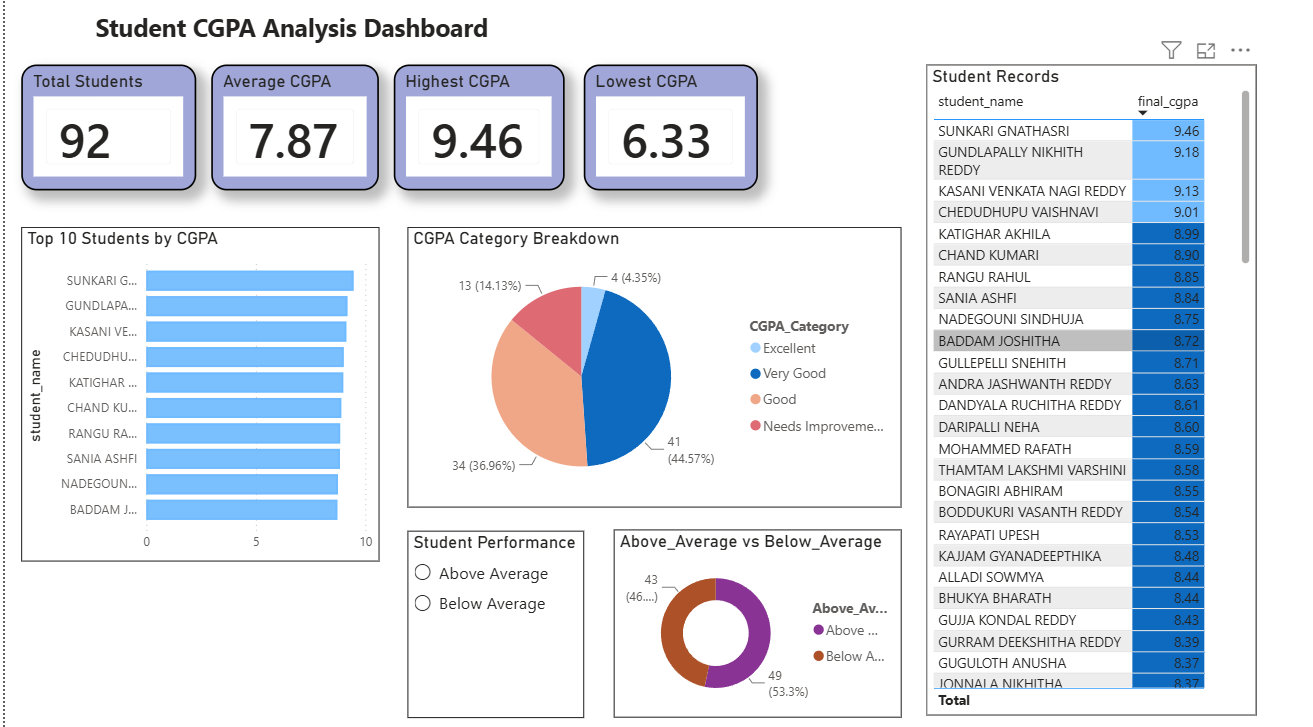

Layout of this report page (visuals, bound fields, positions):
{"tool":"powerbi","page":{"name":"Page 1","canvas":[1280,720],"ordinal":0},"visuals":[{"type":"tableEx","title":"Student Records","fields":{"Values":["AIML.Column3","AIML.final_cgpa"]},"box":[901.4,71.4,322.9,637.1],"z":0},{"type":"pieChart","title":"CGPA Category Breakdown","fields":{"Y":["AIML.total_students"],"Category":["AIML.CGPA_Category"]},"box":[394.3,230,482.9,274.3],"z":1000},{"type":"donutChart","title":"Above_Average vs Below_Average","fields":{"Y":["AIML.total_students"],"Category":["AIML.Above_Average"]},"box":[595.7,525.7,281.4,184.3],"z":2000},{"type":"listSlicer","title":"Student Performance","fields":{"Values":["AIML.Above_Average"]},"box":[394.3,527.1,172.9,182.9],"z":3000},{"type":"clusteredBarChart","title":"Top 10 Students by CGPA","fields":{"Category":["AIML.student_name"],"Y":["Sum(AIML.final_cgpa)"]},"box":[15.7,230,350,327.1],"z":4000},{"type":"cardVisual","title":"Total Students","fields":{"Data":["AIML.total_students"]},"box":[15.7,71.4,171.4,122.9],"z":5000},{"type":"cardVisual","title":"Average CGPA","fields":{"Data":["AIML.Average_CGPA"]},"box":[201.4,71.4,164.3,122.9],"z":6000},{"type":"cardVisual","title":"Highest CGPA","fields":{"Data":["AIML.highest_cgpa"]},"box":[380,71.4,167.1,122.9],"z":7000},{"type":"cardVisual","title":"Lowest CGPA","fields":{"Data":["AIML.lowest_cgpa"]},"box":[565.7,71.4,170,122.9],"z":8000},{"type":"textbox","box":[34.2,13.5,492.8,48.9],"z":9000}]}

Visuals, with their boxes in screenshot pixels (x1, y1, x2, y2), scaled from the page's 1280x720 canvas onto the 1313x727 screenshot:
"Student Records" tableEx: [925,72,1256,715]
"CGPA Category Breakdown" pieChart: [404,232,900,509]
"Above_Average vs Below_Average" donutChart: [611,531,900,717]
"Student Performance" listSlicer: [404,532,582,717]
"Top 10 Students by CGPA" clusteredBarChart: [16,232,375,563]
"Total Students" cardVisual: [16,72,192,196]
"Average CGPA" cardVisual: [207,72,375,196]
"Highest CGPA" cardVisual: [390,72,561,196]
"Lowest CGPA" cardVisual: [580,72,755,196]
textbox: [35,14,541,63]
